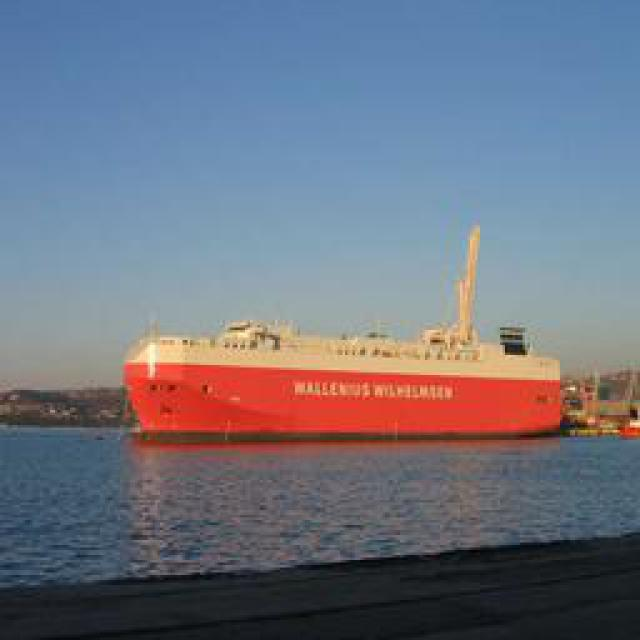Ship: (120, 230, 573, 443)
